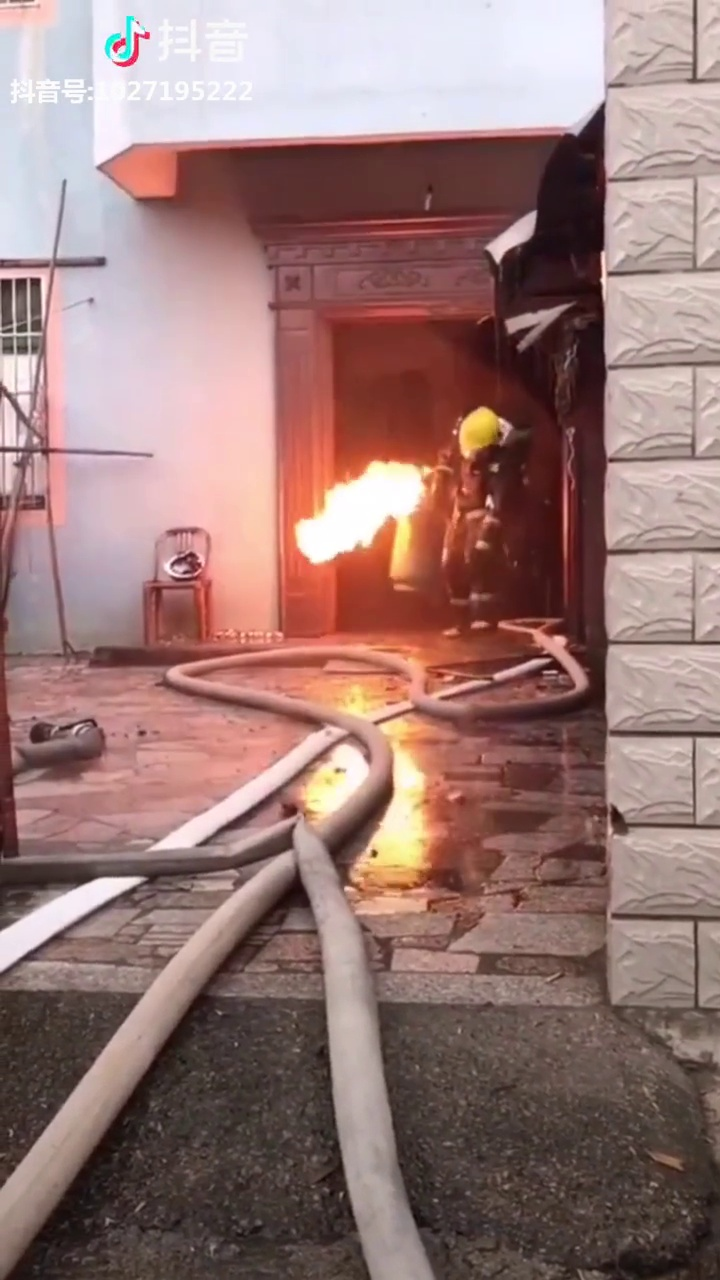fire: (280, 439, 419, 553)
